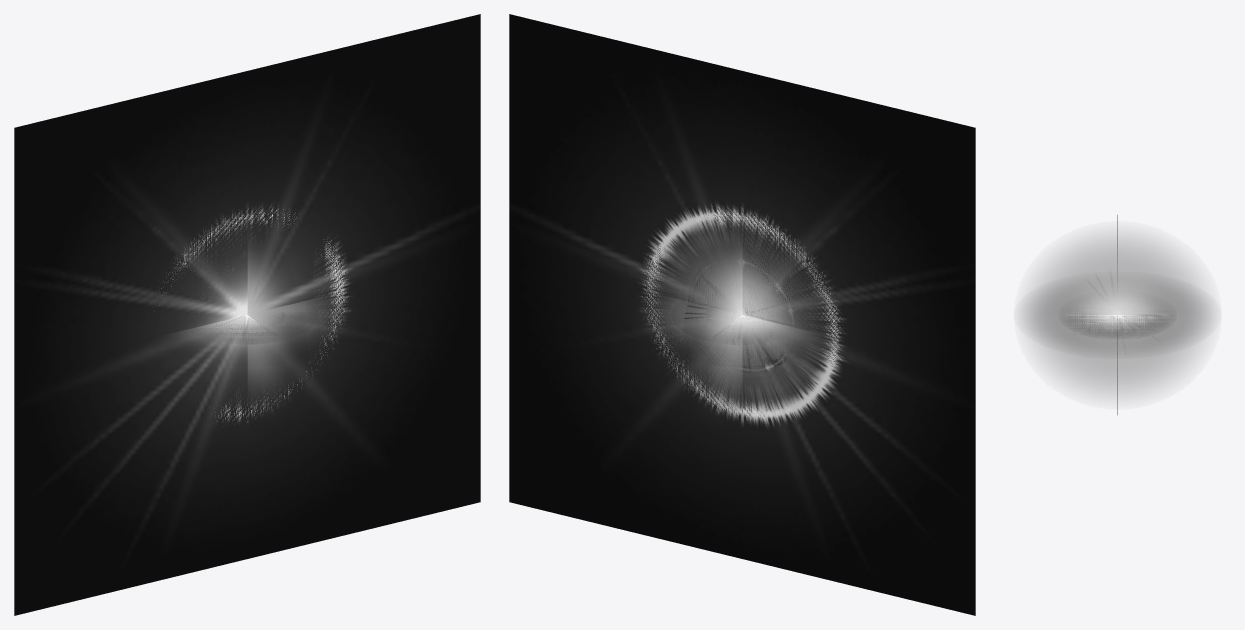
Rendered from si_eeb_0000.glb.
The picture shows the model from 3 angles, left to right: view 1: azimuth 30°, elevation 25°; view 2: azimuth 150°, elevation 25°; view 3: azimuth 270°, elevation 25°; orthographic projection. The views are drawn at different scales.
Parts seen in each view (by area): view 1: layer_00_si_est_0000, layer_02_si_est_0100, layer_05_si_est_0400, layer_03_si_est_0100; view 2: layer_00_si_est_0000, layer_02_si_est_0100, layer_05_si_est_0400, layer_03_si_est_0100; view 3: layer_02_si_est_0100, layer_03_si_est_0100, layer_04_si_est_0100.
Part boxes in pixels (box(x1,y1,x2,y2)): layer_00_si_est_0000: box(14, 14, 480, 615); layer_02_si_est_0100: box(157, 218, 352, 417); layer_05_si_est_0400: box(161, 202, 353, 424); layer_03_si_est_0100: box(209, 311, 306, 339); layer_00_si_est_0000: box(509, 14, 975, 615); layer_02_si_est_0100: box(637, 214, 840, 420); layer_05_si_est_0400: box(638, 199, 848, 430); layer_03_si_est_0100: box(682, 271, 782, 369); layer_02_si_est_0100: box(1021, 236, 1214, 394); layer_03_si_est_0100: box(1070, 315, 1164, 336); layer_04_si_est_0100: box(1075, 315, 1162, 336).
Bounding box in the file's own units: 140 × 140 × 70.
Materials: 5 (5 with a texture image).
